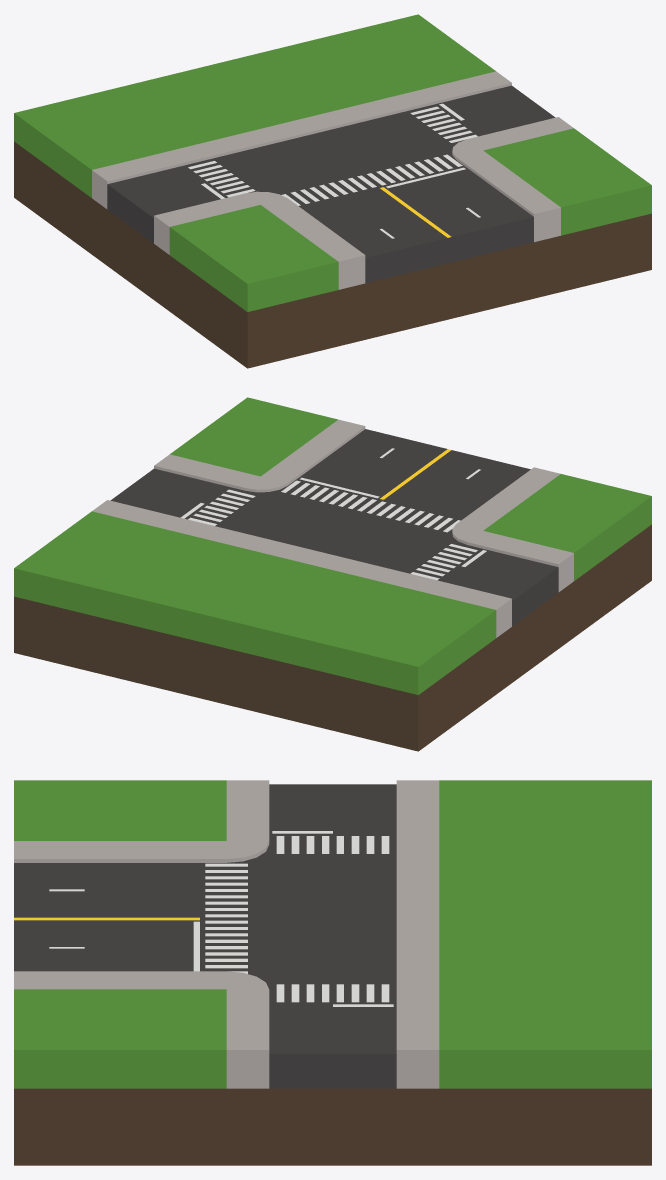
File: tile-mainroad-road-intersection-t.glb
The picture shows the model from 3 angles, top to bottom: view 1: azimuth 30°, elevation 25°; view 2: azimuth 150°, elevation 25°; view 3: azimuth 270°, elevation 25°; orthographic projection. The views are drawn at different scales.
Visible parts, largest first — view 1: tile-mainroad-road-intersection-t; view 2: tile-mainroad-road-intersection-t; view 3: tile-mainroad-road-intersection-t.
Boxes of the visible parts, bbox=[...] form: tile-mainroad-road-intersection-t: bbox=[14, 14, 651, 368]; tile-mainroad-road-intersection-t: bbox=[14, 397, 651, 751]; tile-mainroad-road-intersection-t: bbox=[14, 780, 651, 1165].
Size of the model in its own units: 30 by 6 by 30.
Materials: 1 (1 with a texture image).
